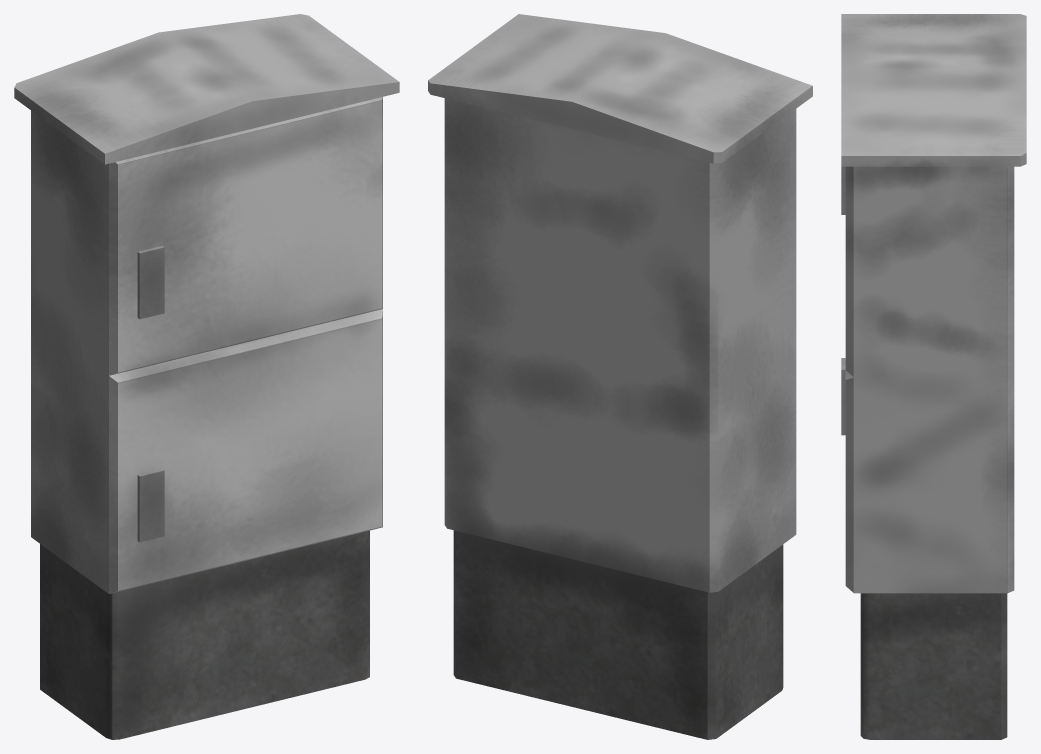
Rendered from streetCounter.glb.
The picture shows the model from 3 angles, left to right: view 1: azimuth 30°, elevation 25°; view 2: azimuth 150°, elevation 25°; view 3: azimuth 270°, elevation 25°; orthographic projection.
Parts seen in each view (by area): view 1: SM_StreetCounter; view 2: SM_StreetCounter; view 3: SM_StreetCounter.
Part boxes in pixels (box(x1,y1,x2,y2)): SM_StreetCounter: box(14, 14, 399, 739); SM_StreetCounter: box(428, 14, 812, 739); SM_StreetCounter: box(841, 14, 1026, 739).
Bounding box in the file's own units: 0.6141 × 1.23 × 0.339.
1 material, 1 textured.
